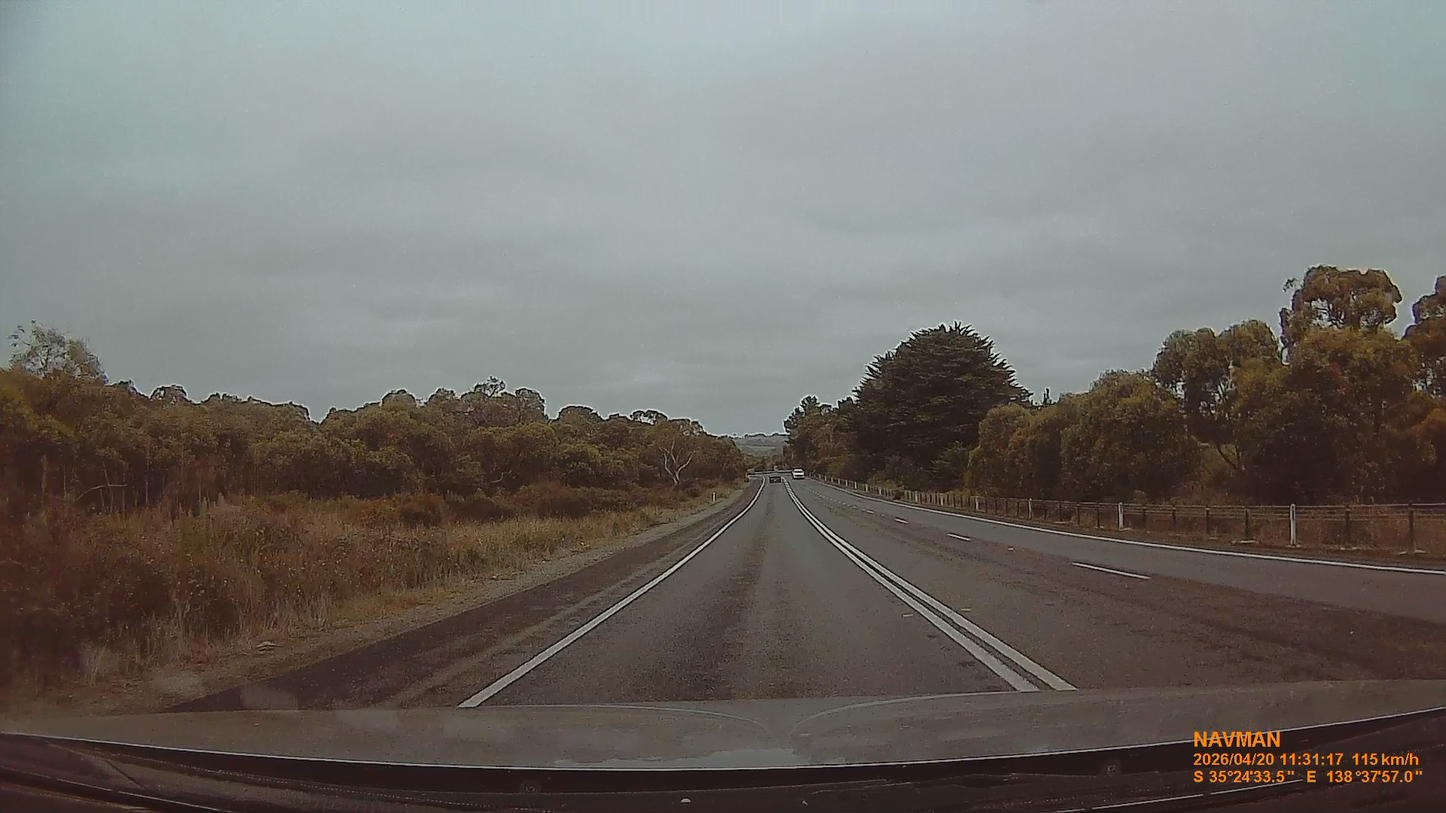fences: (895, 492, 1445, 559)
